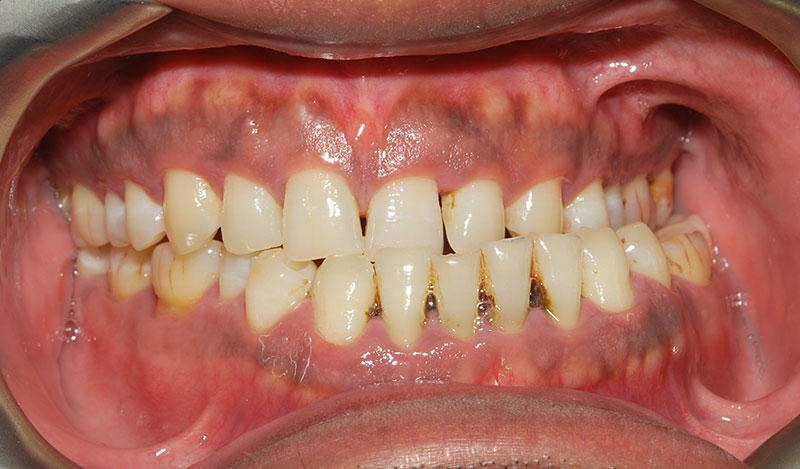LL1BC_healthy: (583, 232, 635, 320)
LL1M_decay: (664, 221, 719, 290)
LL2BC_healthy: (621, 222, 673, 294)
LLCI_decay: (435, 252, 487, 347)
LLC_decay: (533, 234, 590, 333)
LLLI_decay: (483, 241, 538, 334)
LR1BC_healthy: (215, 258, 247, 304)
LR1M_decay: (99, 248, 153, 303)
LR2BC_decay: (149, 248, 217, 317)
LRCI_decay: (374, 249, 433, 345)
LRC_healthy: (243, 251, 316, 338)
LRLI_decay: (312, 253, 381, 347)
UL1BC_healthy: (563, 177, 610, 230)
UL1M_decay: (629, 175, 670, 228)
UL2BC_healthy: (607, 182, 634, 230)
ULCI_healthy: (364, 176, 444, 255)
ULC_healthy: (505, 176, 566, 242)
ULLI_healthy: (442, 181, 507, 249)
UR1BC_healthy: (122, 186, 167, 249)
UR1M_healthy: (60, 187, 104, 253)
UR2BC_healthy: (93, 191, 131, 252)
URCI_healthy: (280, 170, 366, 266)
URC_healthy: (159, 169, 224, 253)
URLI_healthy: (220, 172, 283, 259)
